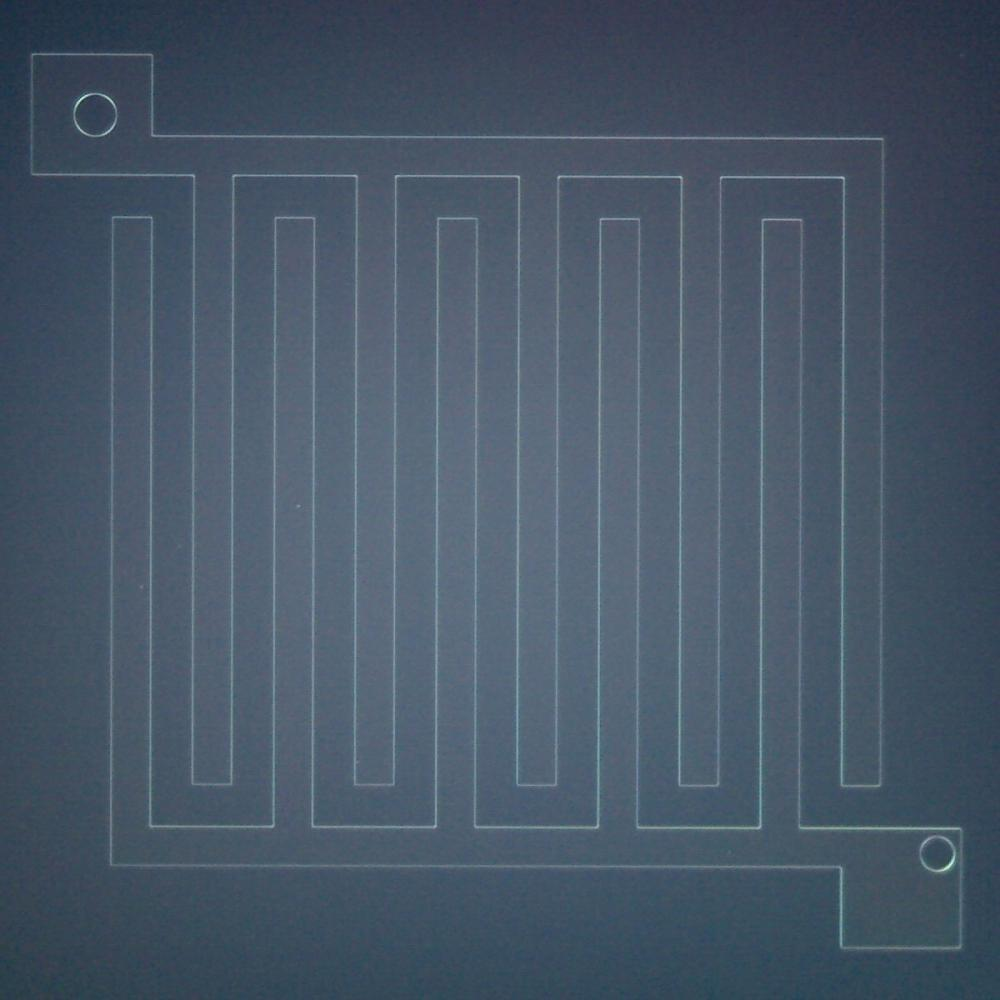circle: (73, 91, 119, 142), (916, 830, 958, 874)
